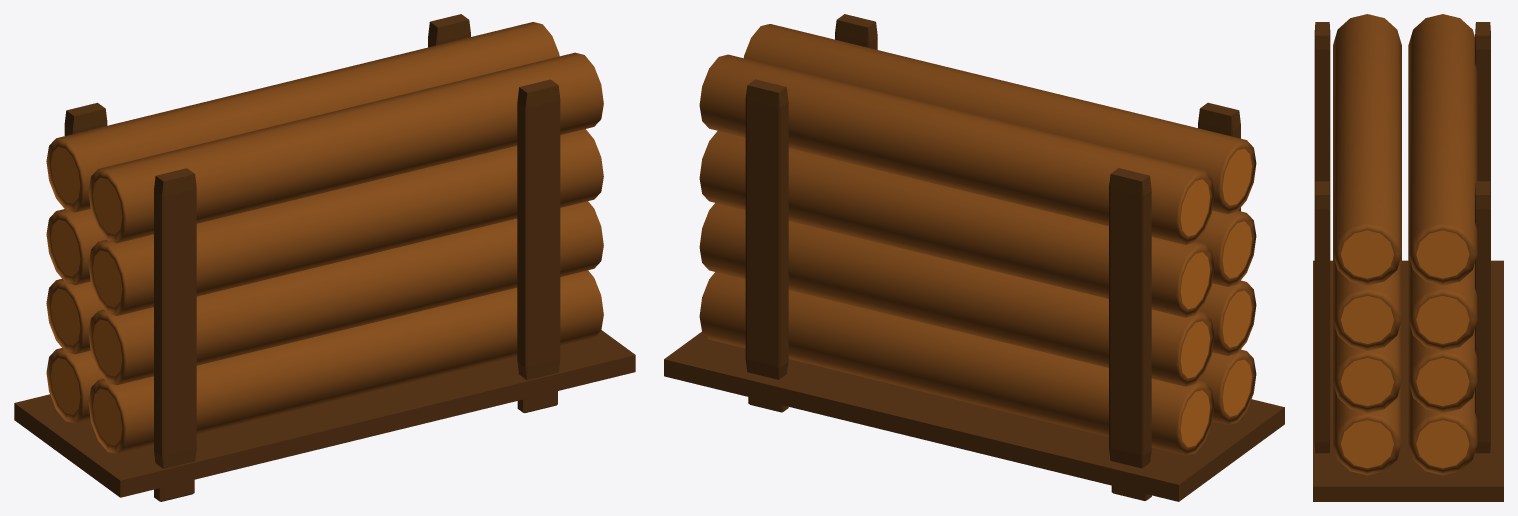
Rendered from WoodPile_2.fbx.
3 renders of one model, left to right at view 1: azimuth 30°, elevation 25°; view 2: azimuth 150°, elevation 25°; view 3: azimuth 270°, elevation 25°, orthographic. The views are drawn at different scales.
Visible parts, largest first — view 1: Cylinder.021; view 2: Cylinder.021; view 3: Cylinder.021.
Boxes of the visible parts, x1,y1,x2,y2 form: Cylinder.021: (14, 14, 635, 501); Cylinder.021: (664, 14, 1284, 501); Cylinder.021: (1313, 14, 1503, 501).
Bounding box in the file's own units: 334 × 200 × 119.
